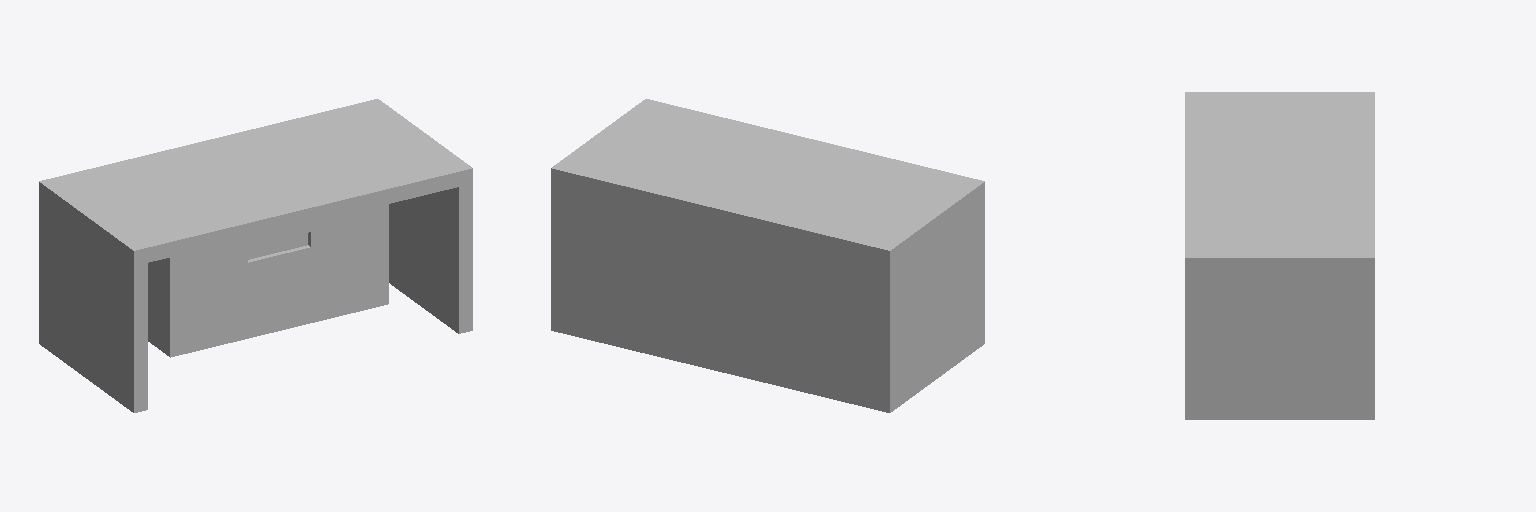
The model's file is Table2.obj.
3 renders of one model, left to right at view 1: azimuth 30°, elevation 25°; view 2: azimuth 150°, elevation 25°; view 3: azimuth 270°, elevation 25°, orthographic.
Parts seen in each view (by area): view 1: object 1; view 2: object 1; view 3: object 1.
Boxes of the visible parts, <box> form: object 1: <box>39,99,472,412</box>; object 1: <box>551,99,984,412</box>; object 1: <box>1185,92,1374,419</box>.
Bounding box in the file's own units: 7 × 3.2 × 3.4.